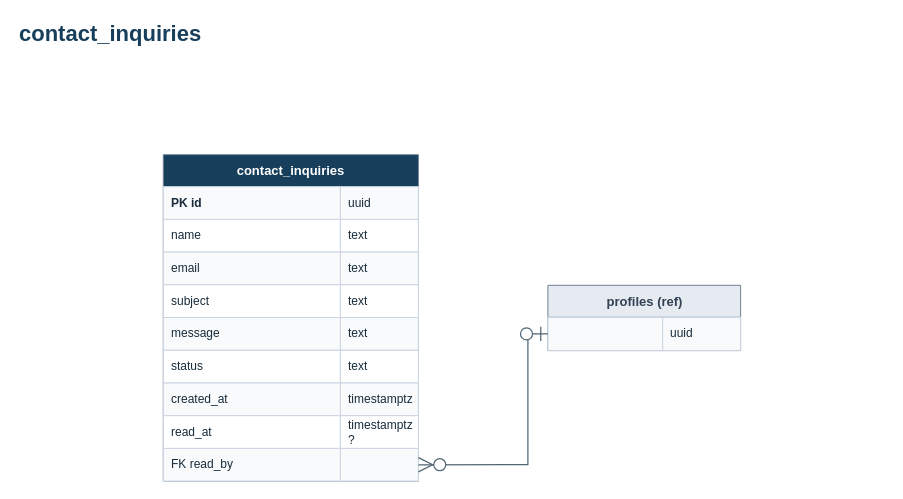
Image size: 903x499. Some labels were removed from this diagram. The shapes that lost their labels are listed below. From the top down, each one's centre as x and y in pixels, then its label:
the point at 605,333: PK FK id
the point at 378,464: uuid ?
